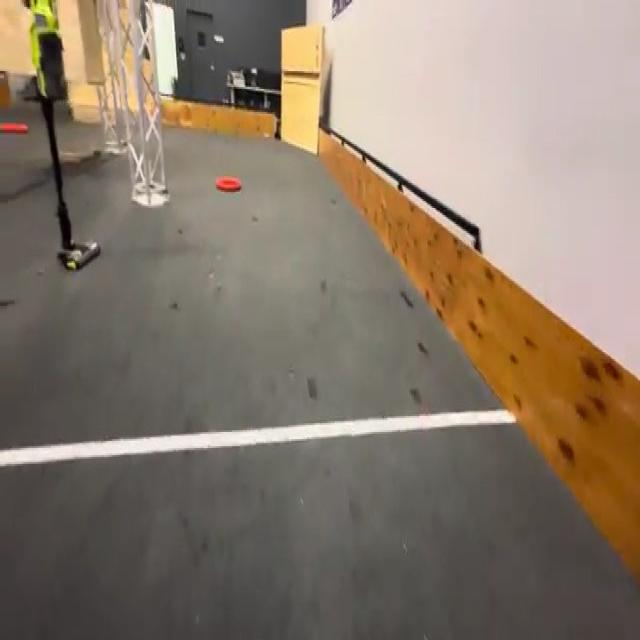note: (216, 175, 243, 193), (0, 121, 28, 136)
